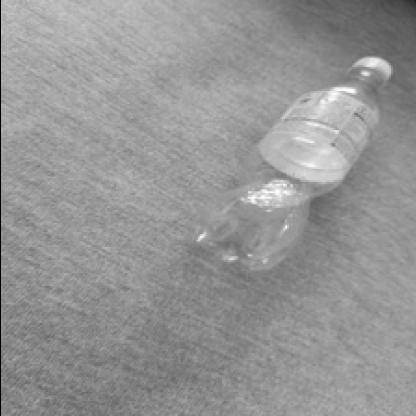plastic_bottles: (212, 57, 396, 269)
